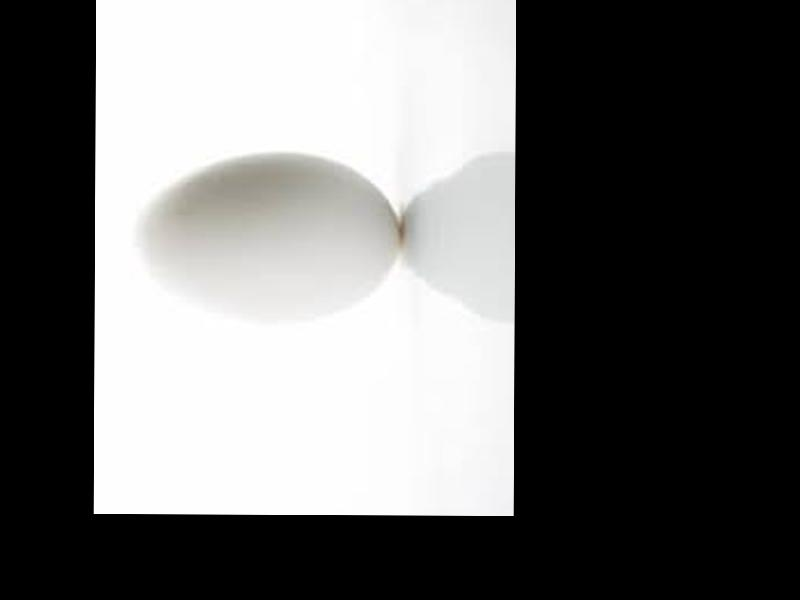Eggs: (136, 152, 400, 318)
